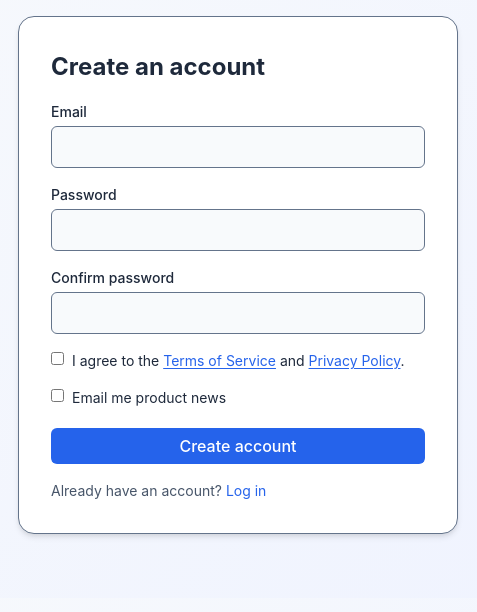
Test: RegisterPage › shows a non-field error in the form alert
In the field labelled "Email": (238, 147) [51,126,425,168], type "reader@example.com"
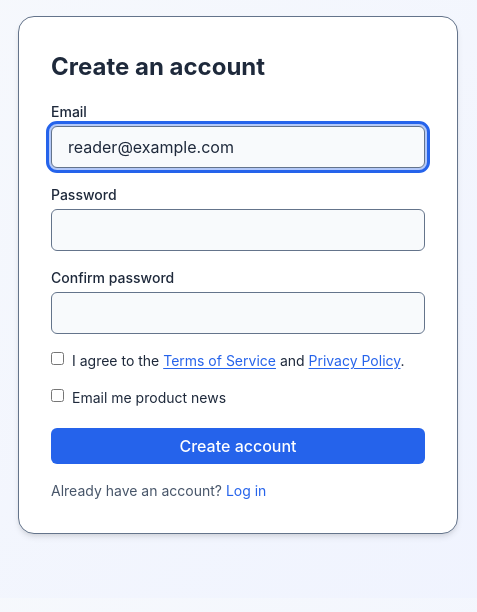
In the password field labelled "Password": (238, 230) [51,209,425,251], type "pw-12345"
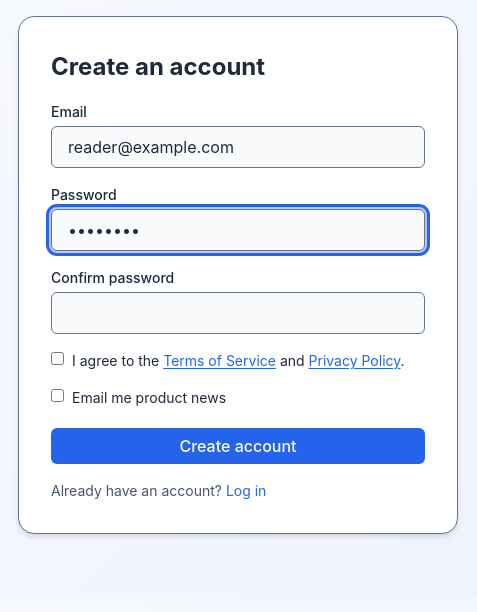
In the password field labelled "Confirm password": (238, 313) [51,292,425,334], type "pw-12345"
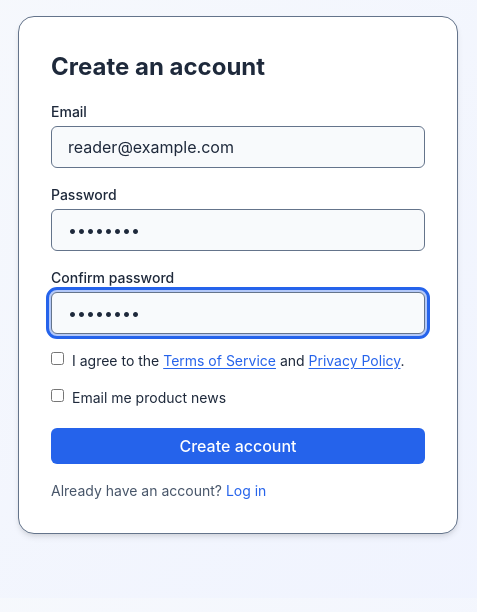
Click the checkbox labelled "I agree to the Terms of Service and Privacy Policy .": (58, 358) [51,352,64,365]
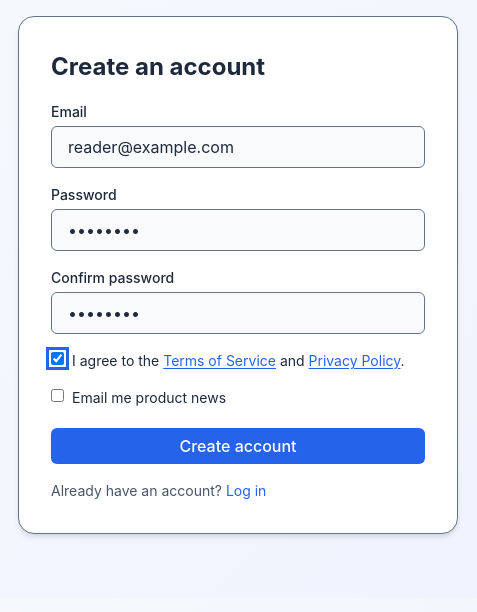
Click the button "Create account": (238, 446) [51,428,425,464]
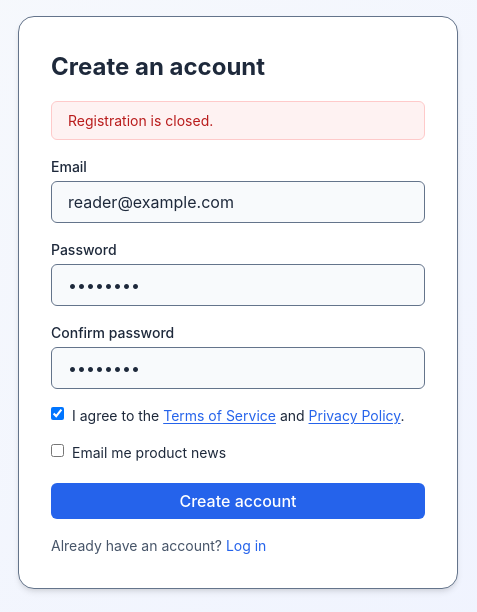
Now the message reads "Registration is closed.", box [68,112,213,129]
